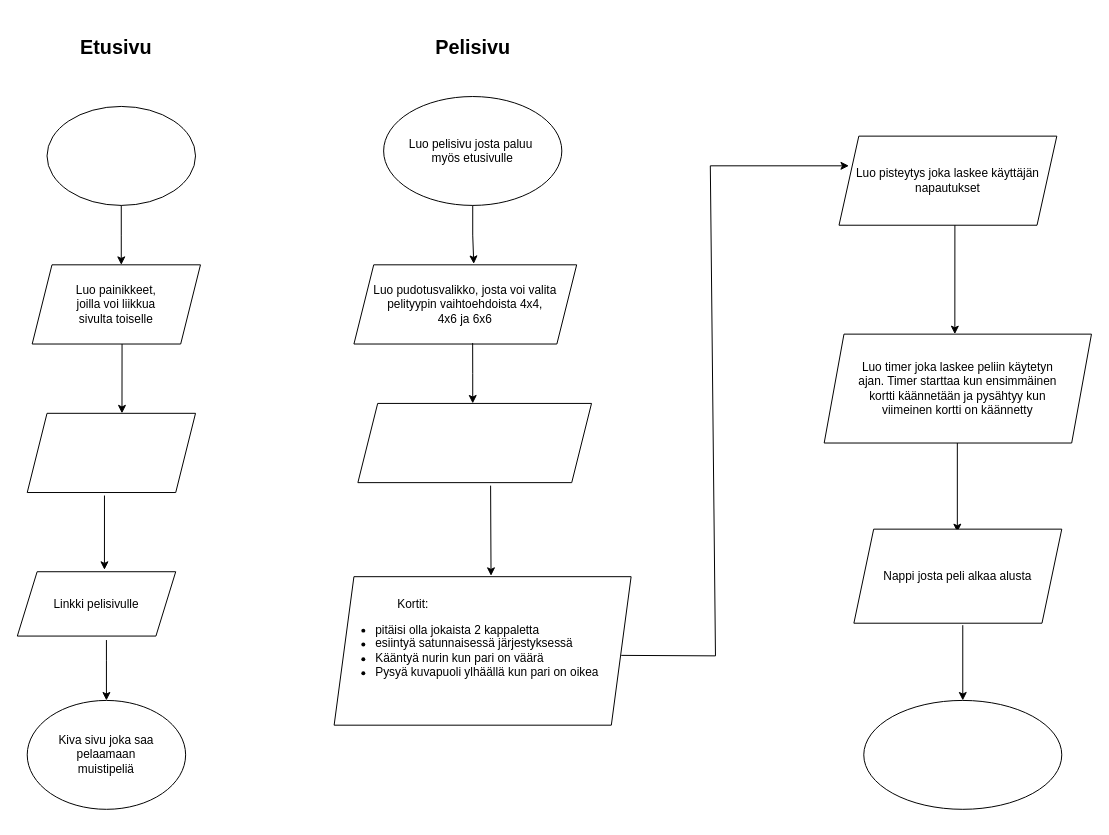
Image size: 1109x835. Some labels were removed from this diagram. Here are the shapes that lost their labels. From the top down, the box of each, then its label:
(46, 105, 196, 205): Luo pääsivu, jolla on tervetuloviesti ja riittävät ohjeet peliin
(26, 412, 196, 493): Luo valikko, jolla pystyy siirtymään sivulta toiselle
(357, 402, 592, 483): Etsi pelissä käytettävät kuvat etu- ja takapuolelta
(863, 699, 1062, 809): Muistipeli
